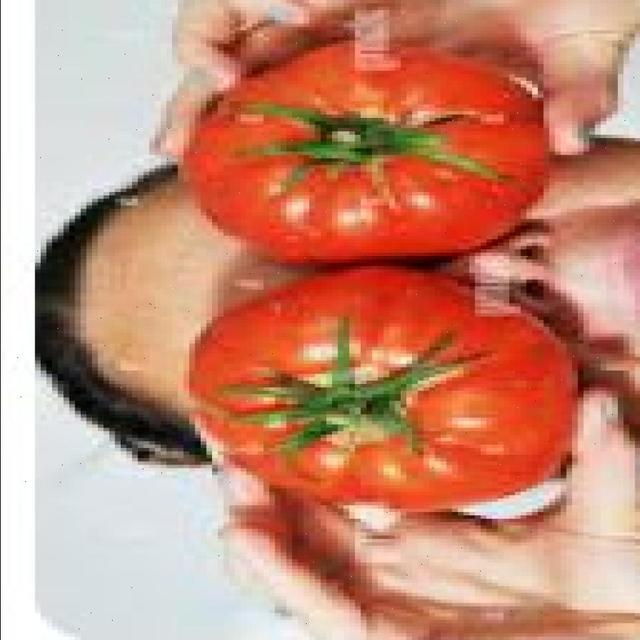Healthy Fruit: (128, 179, 372, 332)
